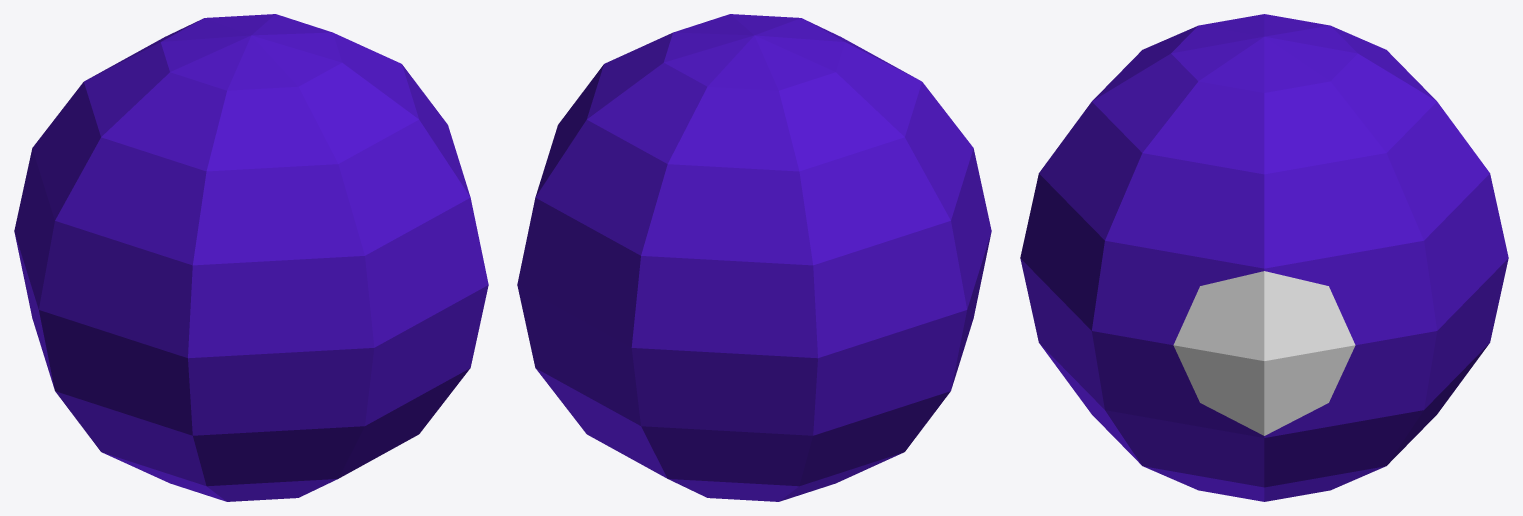
The model's file is roxa1.obj.
3 renders of one model, left to right at view 1: azimuth 30°, elevation 25°; view 2: azimuth 150°, elevation 25°; view 3: azimuth 270°, elevation 25°, orthographic.
Parts seen in each view (by area): view 1: all_balls.002; view 2: all_balls.002; view 3: all_balls.002.
Boxes of the visible parts, box(x1,y1,x2,y2) form: all_balls.002: box(14, 14, 488, 501); all_balls.002: box(517, 14, 991, 501); all_balls.002: box(1020, 14, 1508, 501).
Bounding box in the file's own units: 0.3459 × 0.3459 × 0.3459.
